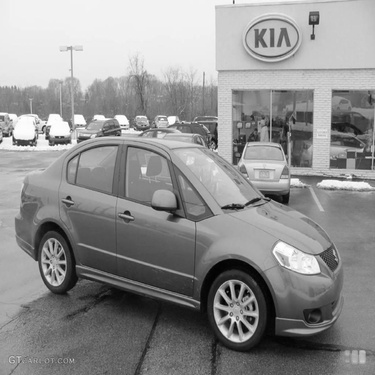car: (14, 121, 348, 354), (236, 140, 291, 198), (303, 135, 370, 166), (63, 114, 122, 144), (170, 118, 216, 151), (6, 113, 39, 146), (158, 132, 212, 152), (11, 109, 47, 132), (319, 94, 356, 113), (48, 119, 74, 144), (326, 122, 360, 140), (70, 108, 90, 131), (184, 111, 217, 124), (132, 112, 152, 131), (1, 104, 11, 140), (47, 110, 65, 130), (90, 104, 107, 124), (115, 109, 132, 128), (155, 112, 171, 130), (169, 110, 180, 128)
